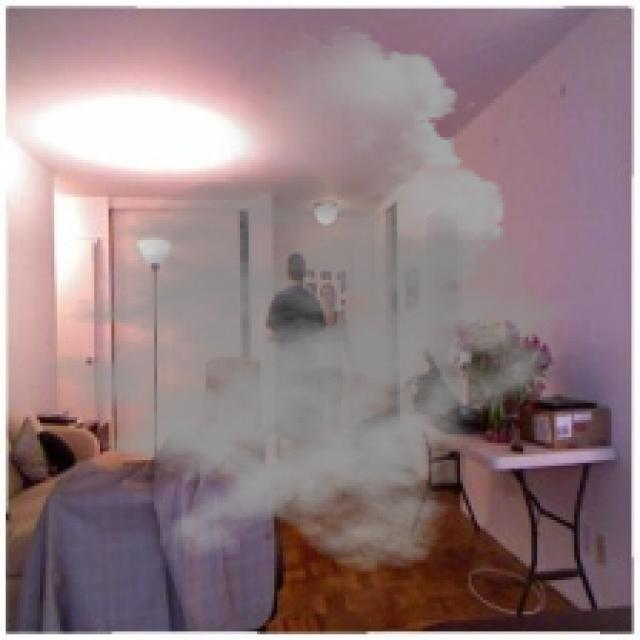Smoke: (11, 22, 578, 574)
